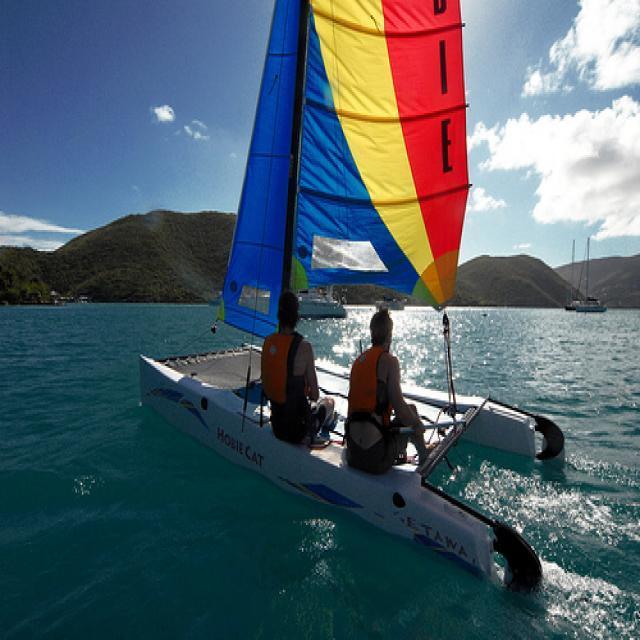Ship: (121, 1, 587, 585)
